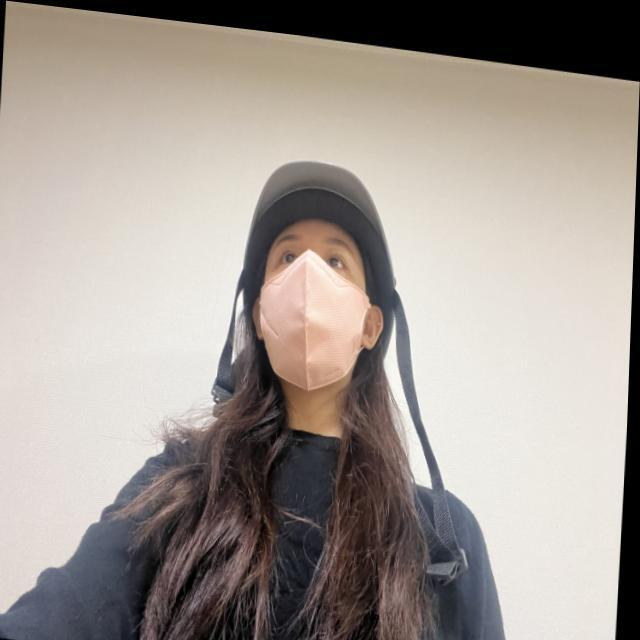Helmet: (230, 146, 400, 410)
